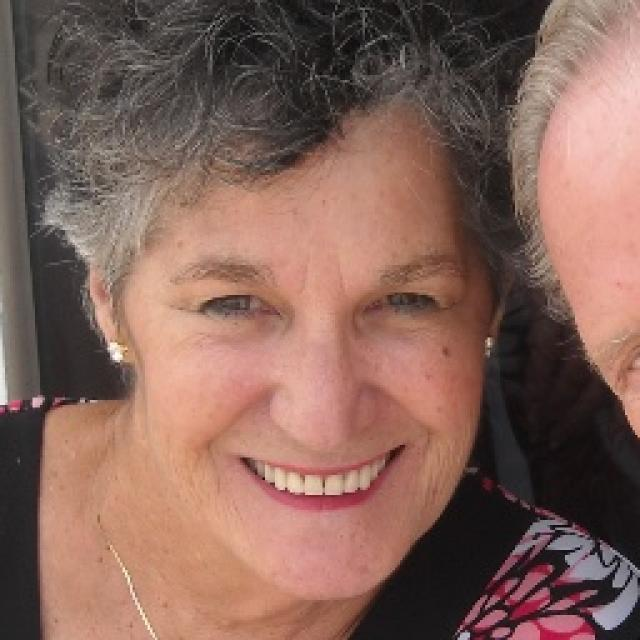earlobe: (105, 338, 139, 368)
eye: (193, 290, 279, 323), (368, 288, 445, 318)
nose: (270, 417, 376, 457)
wholeear: (88, 260, 140, 367)
